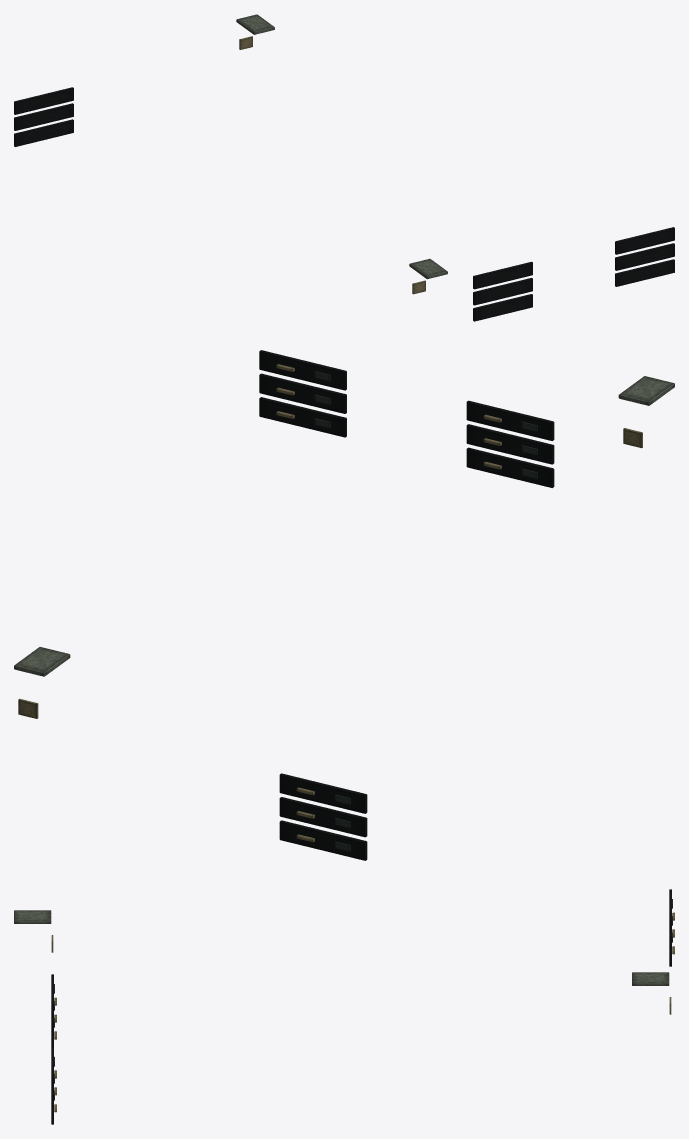
The model's file is THStage_ArchiveDetails.fbx.
3 renders of one model, top to bottom at view 1: azimuth 30°, elevation 25°; view 2: azimuth 150°, elevation 25°; view 3: azimuth 270°, elevation 25°, orthographic. The views are drawn at different scales.
Parts seen in each view (by area): view 1: THStage_ArchiveDetails.008; view 2: THStage_ArchiveDetails.008; view 3: THStage_ArchiveDetails.008.
Part boxes in pixels (x1=…): THStage_ArchiveDetails.008: x1=14, y1=14, x2=674, y2=321; THStage_ArchiveDetails.008: x1=14, y1=350, x2=674, y2=860; THStage_ArchiveDetails.008: x1=14, y1=889, x2=674, y2=1124.
Bounding box in the file's own units: 3.1 × 0.6 × 4.6.
Materials: 1 (1 with a texture image).
